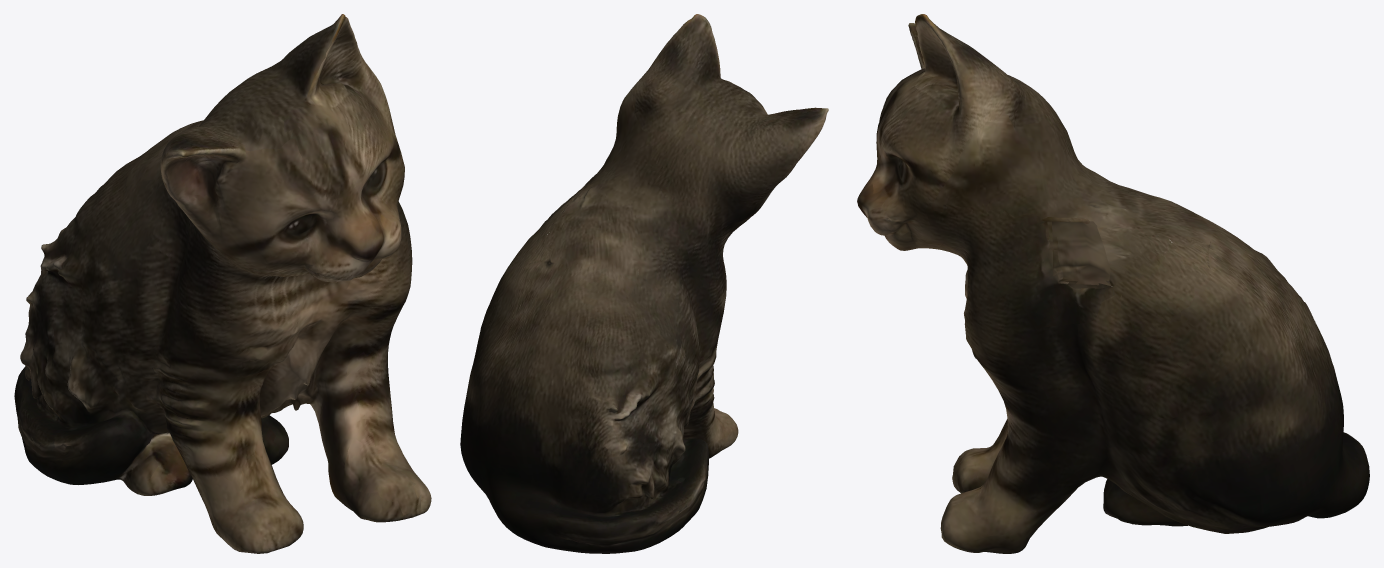
File: neko.glb
The picture shows the model from 3 angles, left to right: view 1: azimuth 30°, elevation 25°; view 2: azimuth 150°, elevation 25°; view 3: azimuth 270°, elevation 25°; orthographic projection. The views are drawn at different scales.
Parts seen in each view (by area): view 1: node0; view 2: node0; view 3: node0.
Boxes of the visible parts, x1=… form: node0: x1=14, y1=14, x2=431, y2=553; node0: x1=460, y1=14, x2=828, y2=553; node0: x1=857, y1=14, x2=1369, y2=553.
Size of the model in its own units: 2.4 by 4 by 3.65.
Materials: 1 (1 with a texture image).
